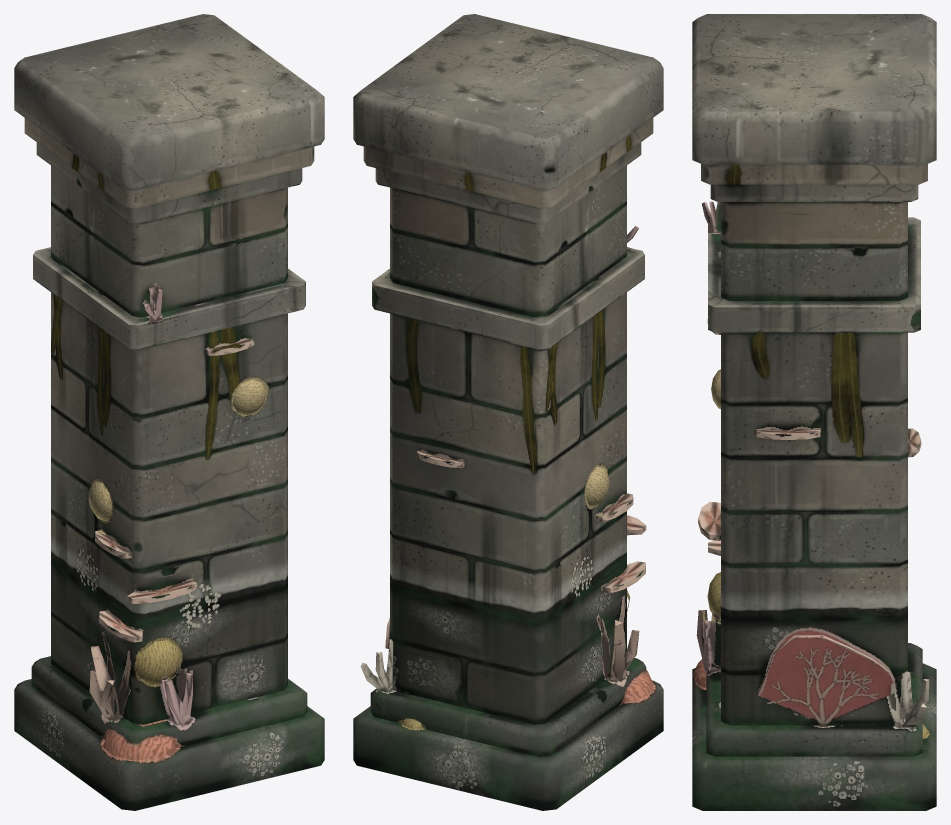
Rendered from drowned_pillar.glb.
3 renders of one model, left to right at view 1: azimuth 30°, elevation 25°; view 2: azimuth 150°, elevation 25°; view 3: azimuth 270°, elevation 25°, orthographic. The views are drawn at different scales.
Parts seen in each view (by area): view 1: drowned_pillar; view 2: drowned_pillar; view 3: drowned_pillar.
Part boxes in pixels (<box>): drowned_pillar: <box>14,14,324,810</box>; drowned_pillar: <box>353,14,663,810</box>; drowned_pillar: <box>692,14,936,810</box>.
Bounding box in the file's own units: 1.4 × 4.4 × 1.4.
Materials: 1 (1 with a texture image).
